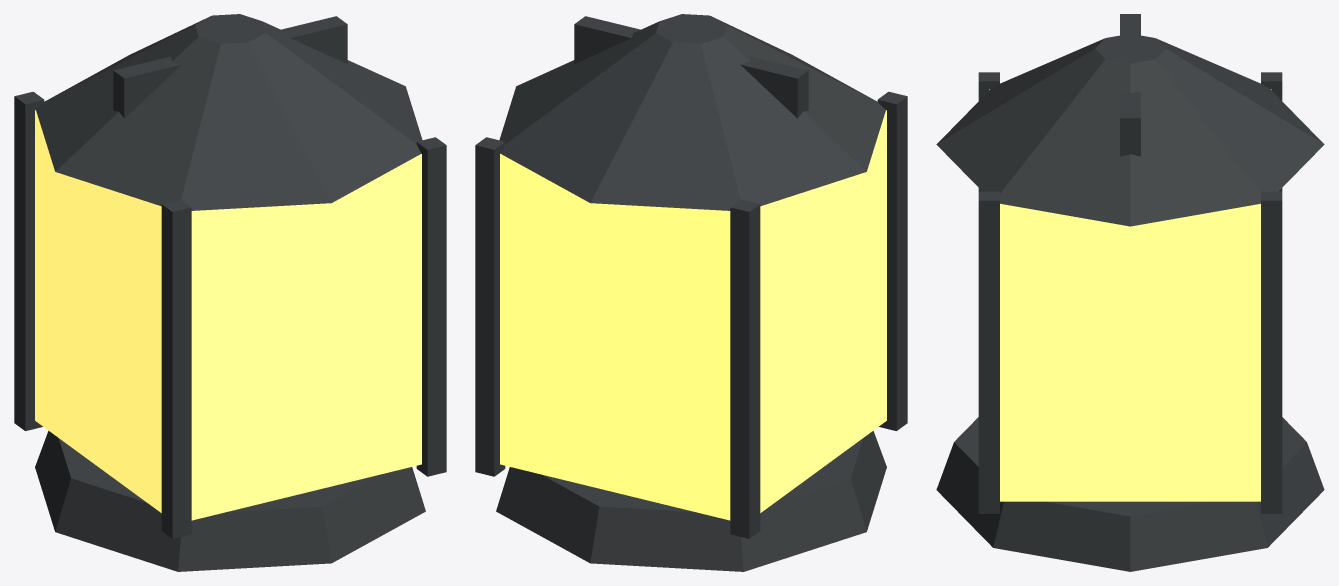
File: prop_cart_lantern.glb
3 renders of one model, left to right at view 1: azimuth 30°, elevation 25°; view 2: azimuth 150°, elevation 25°; view 3: azimuth 270°, elevation 25°, orthographic. The views are drawn at different scales.
Parts seen in each view (by area): view 1: Lantern; view 2: Lantern; view 3: Lantern.
Part boxes in pixels (left/top/right/bottom): Lantern: left=14, top=14, right=446, bottom=571; Lantern: left=475, top=14, right=907, bottom=571; Lantern: left=936, top=14, right=1324, bottom=571.
Bounding box in the file's own units: 0.22 × 0.276 × 0.22.
